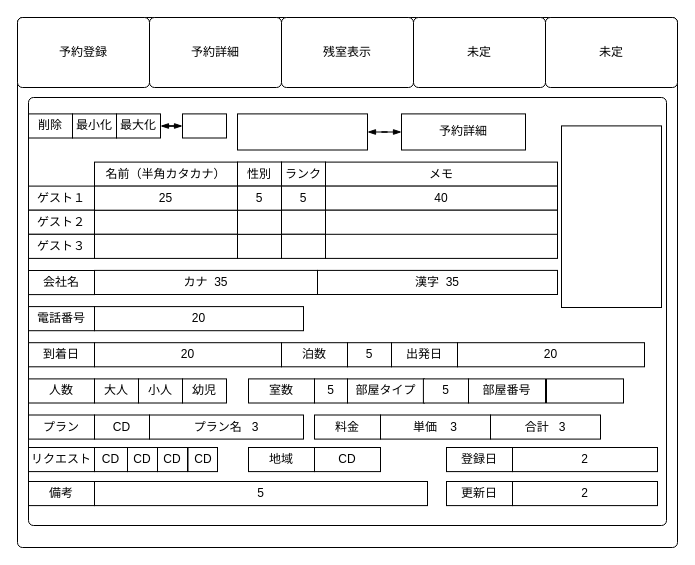
This 695x565 diagram has some shape labels left out. The shapes that lost their labels are listed below. From the top down, each one's centre as x and y in pixels, then its label:
(x=204, y=125): 戻す
(x=302, y=131): 新規予約登録
(x=611, y=216): タブ 20x50
